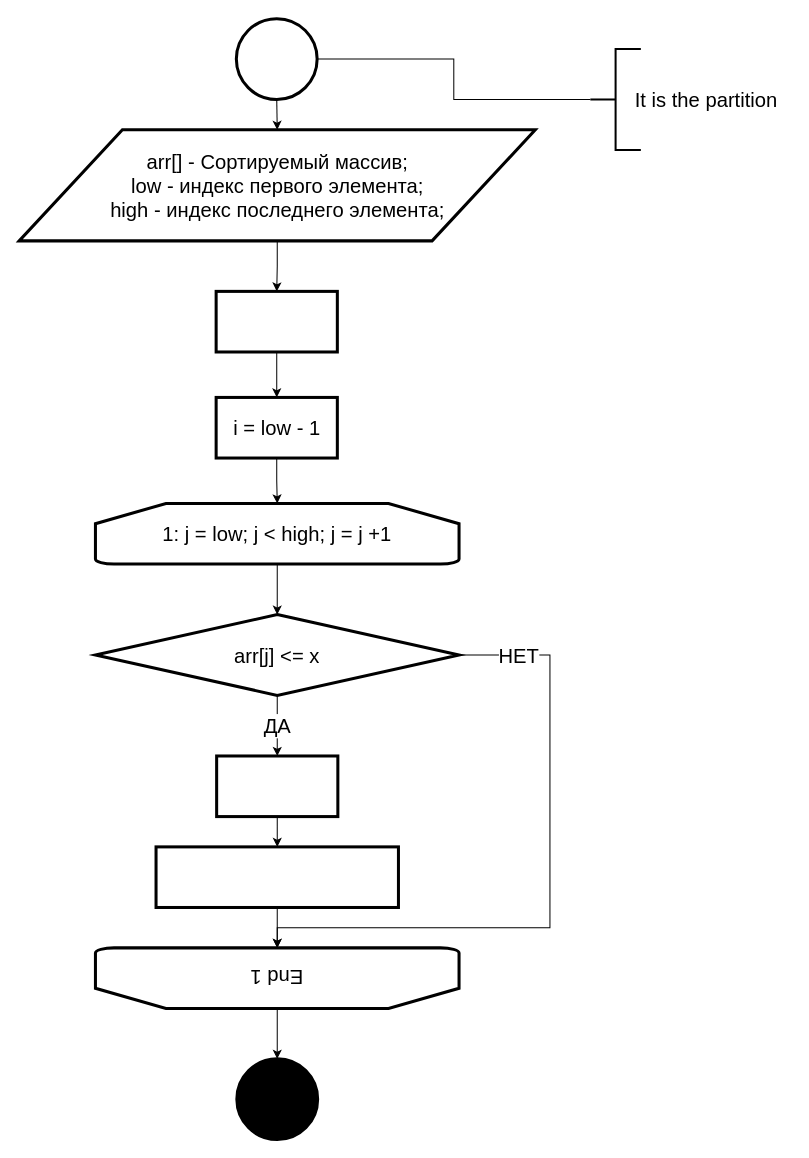
The diagram is 809 pixels wide and 1158 high, and some of its shapes have lost their labels. The shapes that lost their labels are listed below. From the top down, each one's centre as x and y in pixels, then its label:
pixel 276 321: x = arr[high]
pixel 277 786: i = i + 1
pixel 276 876: Обменивываем местами arr[i] и arr[j]
